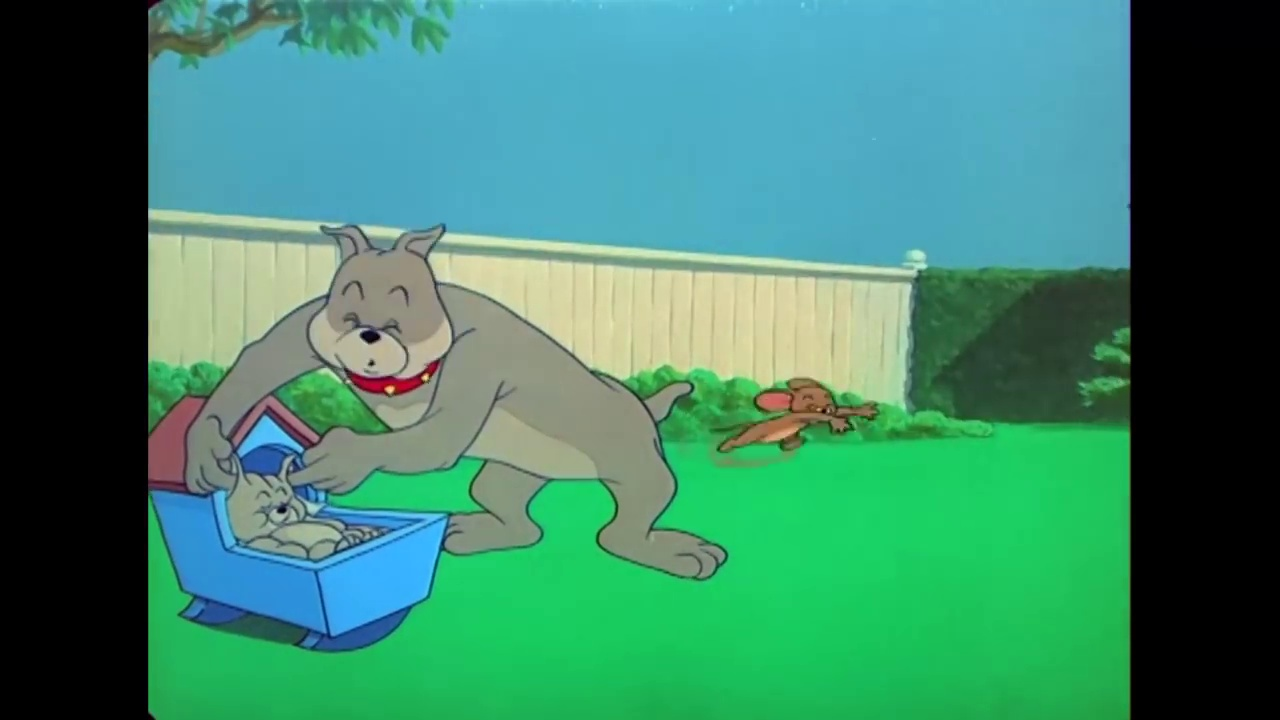spike: (305, 213, 462, 402)
